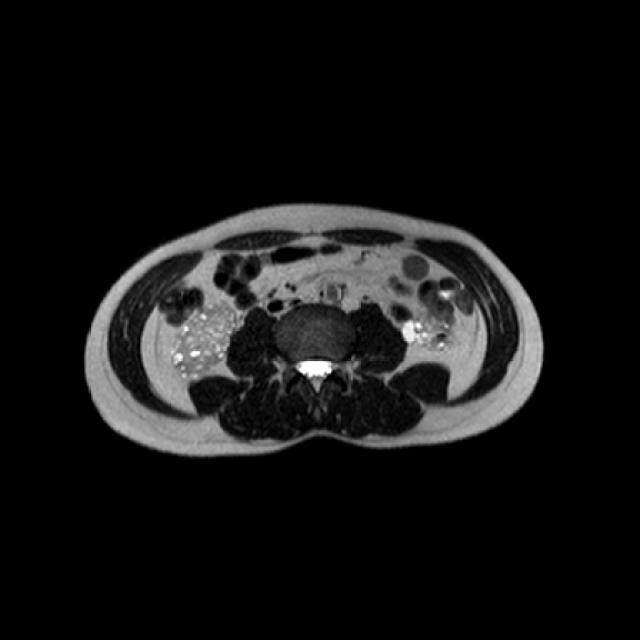sag: (169, 299, 237, 380)
sol: (400, 307, 455, 353)
